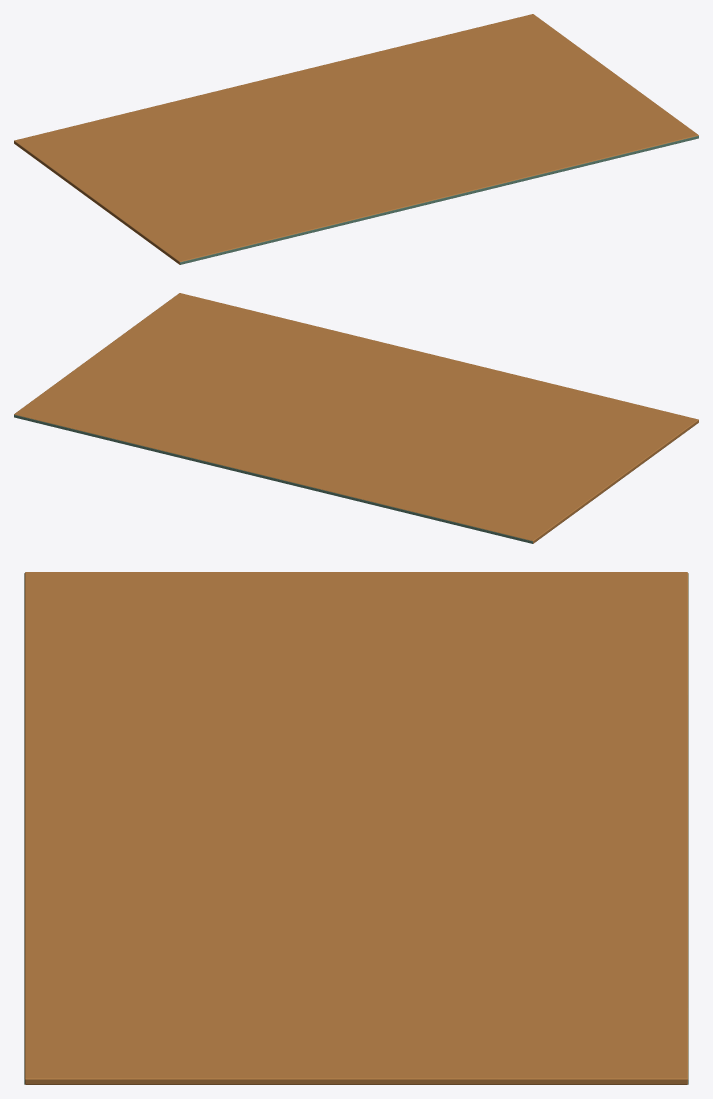
Rendered from drawer-one-family-light.glb.
3 views of the same model, one above another, from view 1: azimuth 30°, elevation 25°; view 2: azimuth 150°, elevation 25°; view 3: azimuth 270°, elevation 25° (orthographic). The views are drawn at different scales.
Visible parts, largest first — view 1: wood, sage; view 2: wood, sage; view 3: wood, sage.
Part boxes in pixels (box(x1,y1,x2,y2)): wood: box(14, 14, 698, 264); sage: box(180, 136, 698, 264); wood: box(14, 293, 698, 543); sage: box(14, 415, 532, 543); wood: box(24, 572, 688, 1084); sage: box(24, 573, 688, 1084).
Size of the model in its own units: 47 by 0.3 by 26.03.
